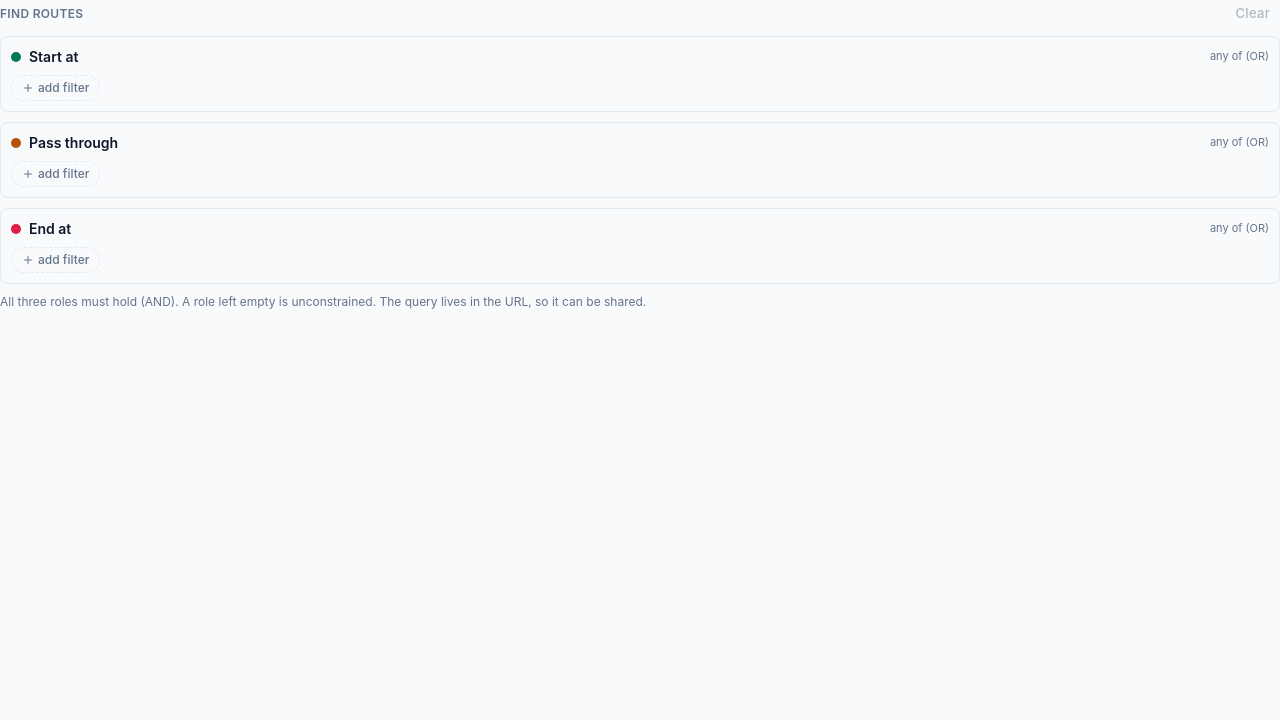
Test: RouteQueryPanel › repeats the parameter for several filters of one role (OR)
Click the button named "Add filter to \"Start at\"". click: (56, 88)
box: [11,75,100,101]
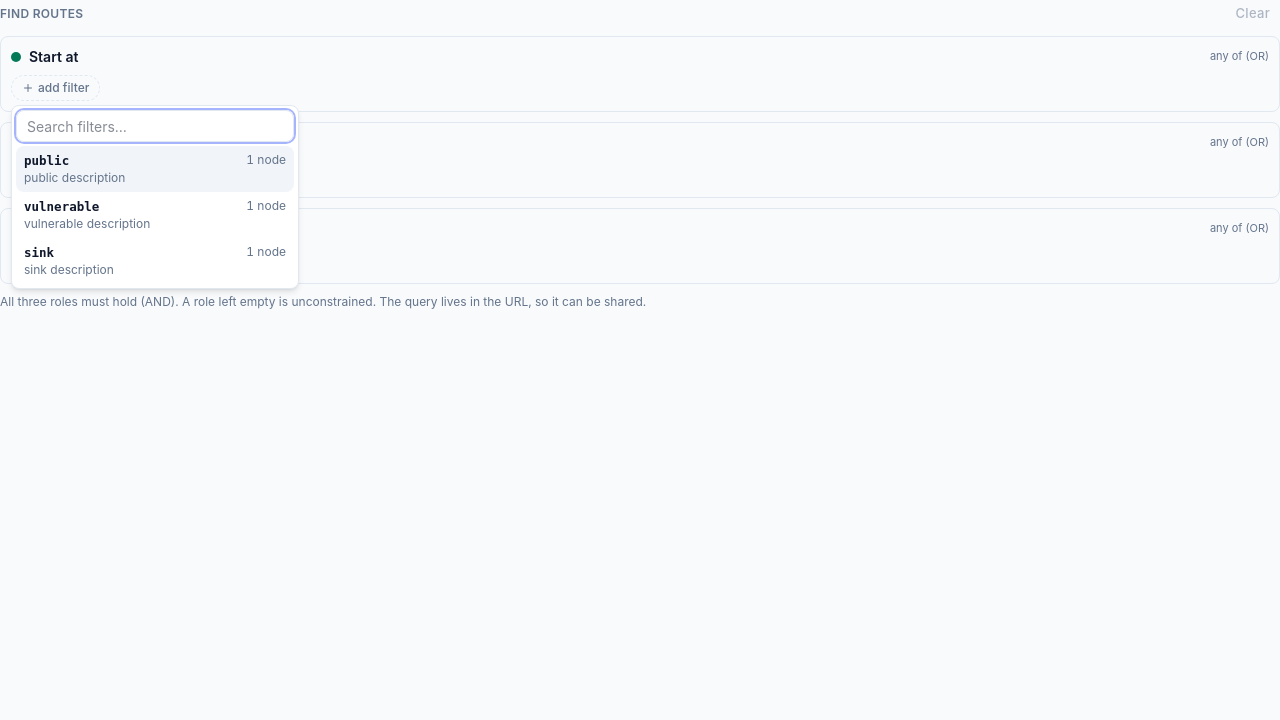
Click the option "public public description 1 node". click: (47, 160)
box: [16,146,294,192]
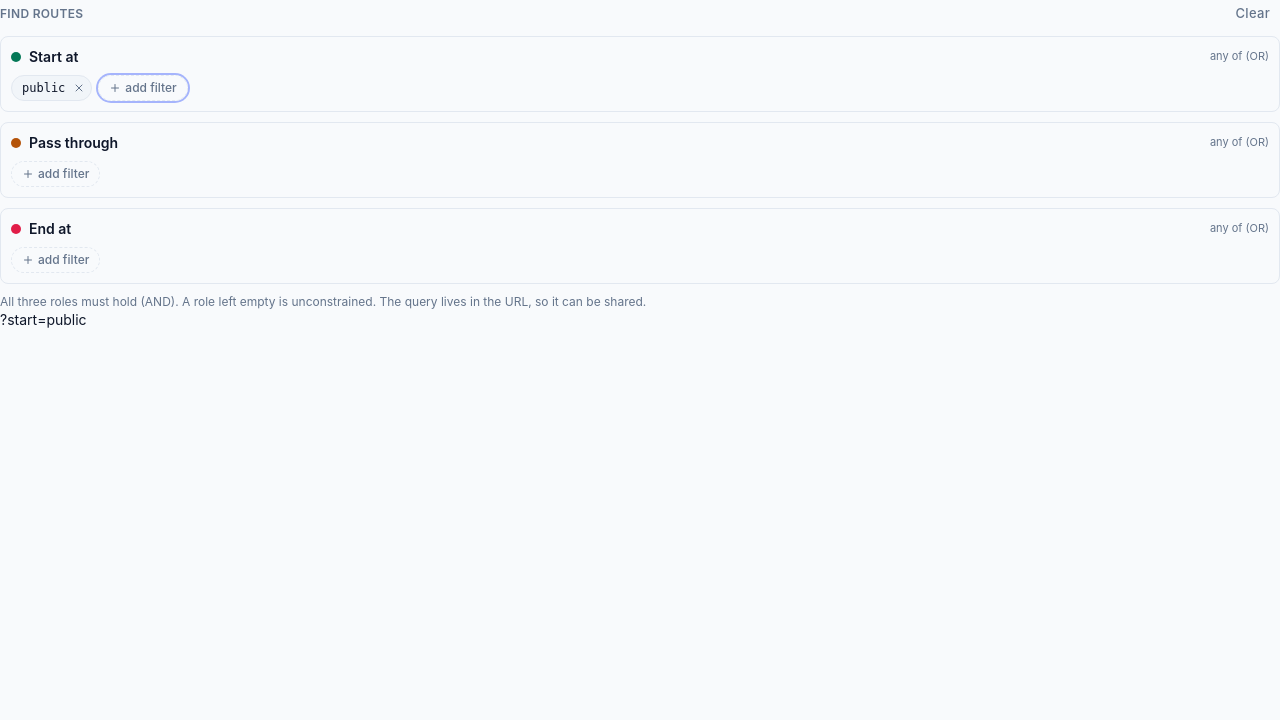
Click the button named "Add filter to \"Start at\"". click: (143, 88)
box: [98,75,188,101]
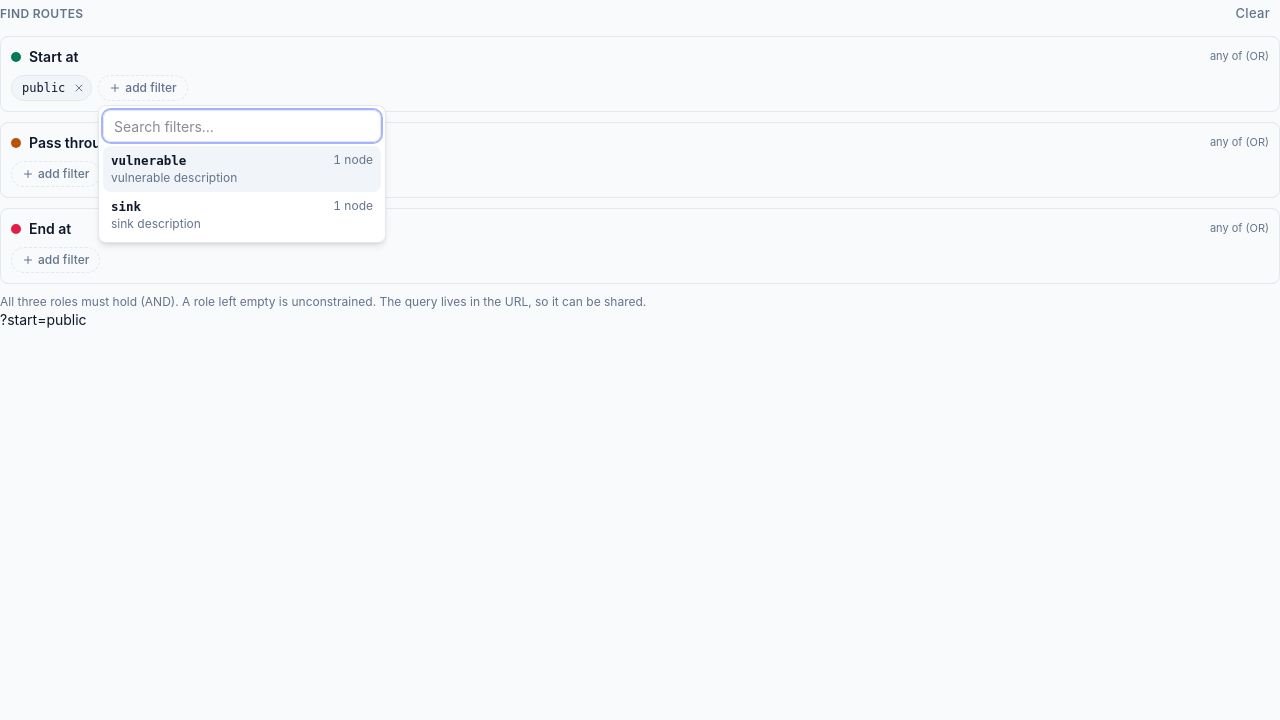
Click the option "vulnerable vulnerable description 1 node". click: (149, 160)
box: [103,146,381,192]
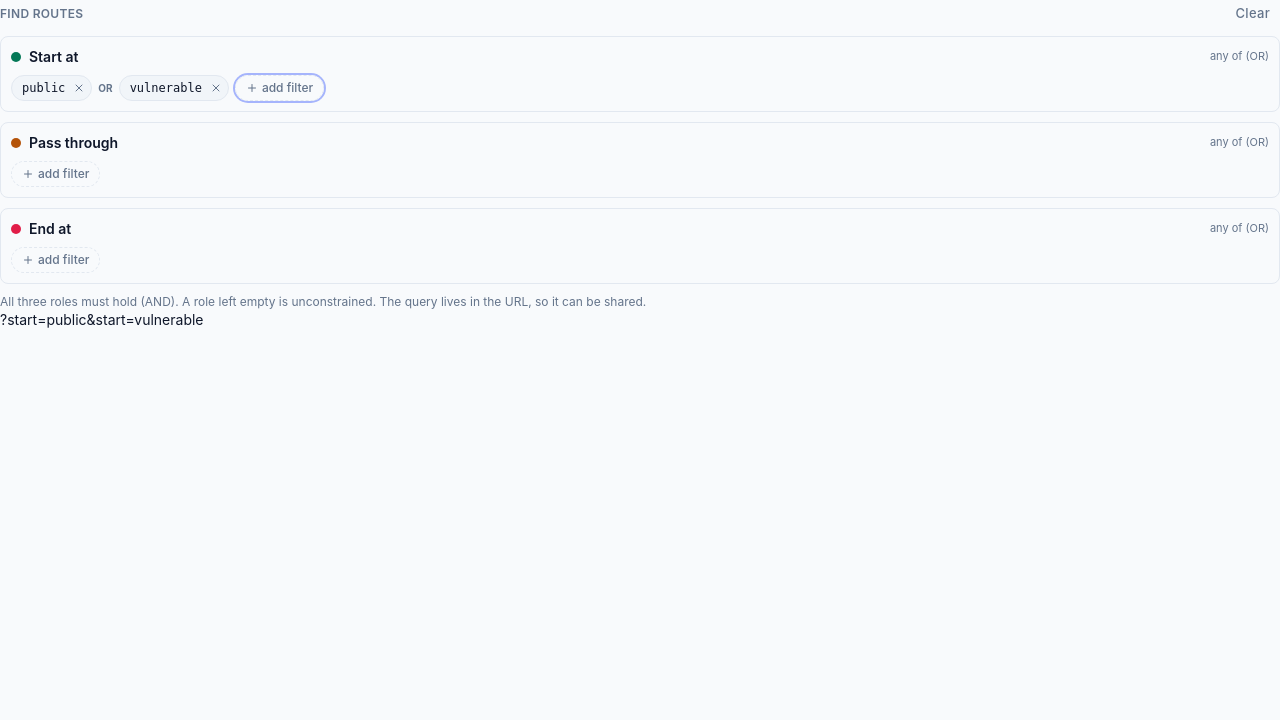
Result: the text named "url-search" reads "?start=public&start=vulnerable" at [0,311,204,328]
